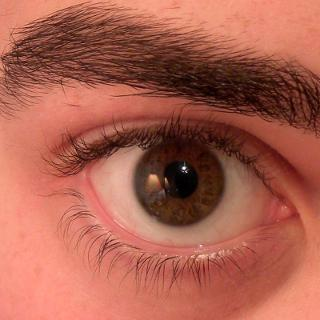pupil: (161, 161, 197, 198)
